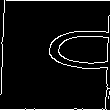O_W: (1, 33, 109, 77)
